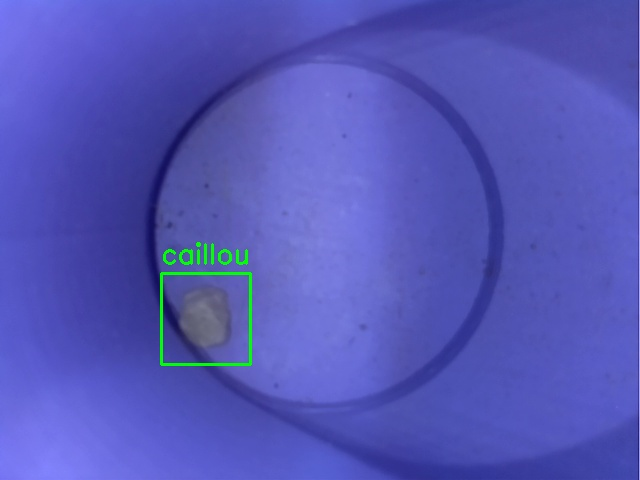caillou: (161, 273, 250, 364)
